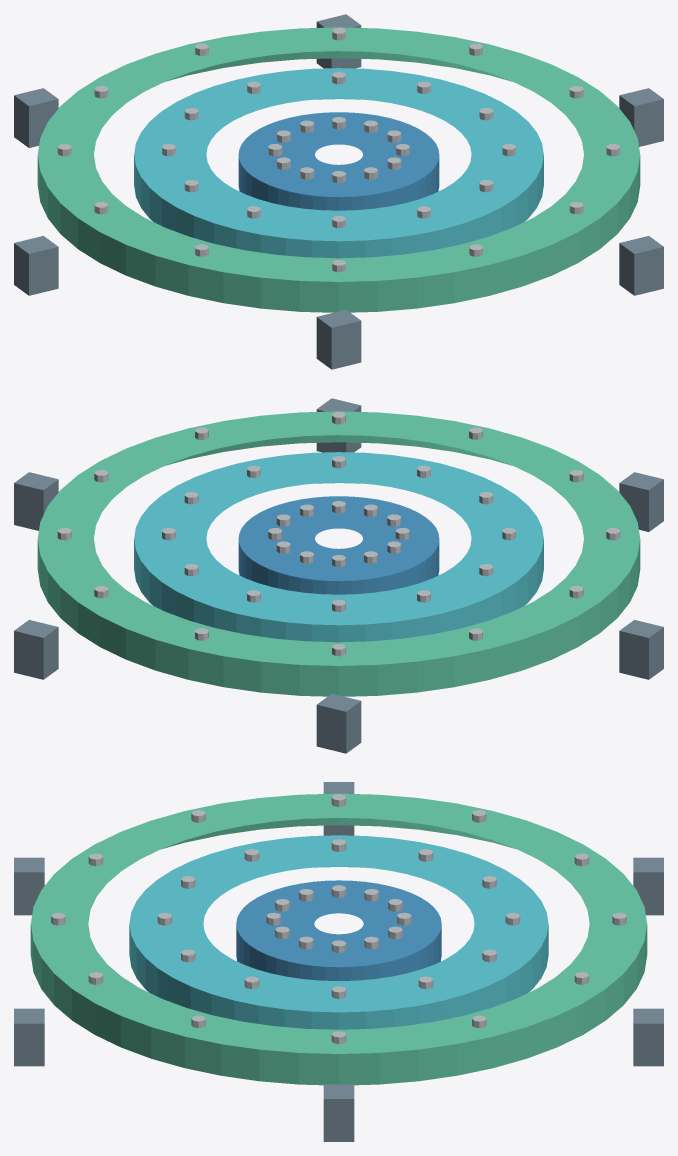
The model's file is 07_L73_MultiZonePressureBladder.glb.
The picture shows the model from 3 angles, top to bottom: view 1: azimuth 30°, elevation 25°; view 2: azimuth 150°, elevation 25°; view 3: azimuth 270°, elevation 25°; orthographic projection. The views are drawn at different scales.
Parts seen in each view (by area): view 1: MultiZonePressureBladder_Node_0026, MultiZonePressureBladder_Node_0013, MultiZonePressureBladder_Node_0000, MultiZonePressureBladder_Node_0041, MultiZonePressureBladder_Node_0040, MultiZonePressureBladder_Node_0042, MultiZonePressureBladder_Node_0043, MultiZonePressureBladder_Node_0039, MultiZonePressureBladder_Node_0044; view 2: MultiZonePressureBladder_Node_0026, MultiZonePressureBladder_Node_0013, MultiZonePressureBladder_Node_0000, MultiZonePressureBladder_Node_0043, MultiZonePressureBladder_Node_0044, MultiZonePressureBladder_Node_0042, MultiZonePressureBladder_Node_0041, MultiZonePressureBladder_Node_0039, MultiZonePressureBladder_Node_0040; view 3: MultiZonePressureBladder_Node_0026, MultiZonePressureBladder_Node_0013, MultiZonePressureBladder_Node_0000, MultiZonePressureBladder_Node_0039, MultiZonePressureBladder_Node_0040, MultiZonePressureBladder_Node_0044, MultiZonePressureBladder_Node_0041, MultiZonePressureBladder_Node_0043, MultiZonePressureBladder_Node_0042.
Boxes of the visible parts, x1,y1,x2,y2 form: MultiZonePressureBladder_Node_0026: [37, 27, 640, 312]; MultiZonePressureBladder_Node_0013: [134, 68, 543, 258]; MultiZonePressureBladder_Node_0000: [238, 112, 439, 210]; MultiZonePressureBladder_Node_0041: [316, 309, 361, 369]; MultiZonePressureBladder_Node_0040: [619, 236, 663, 295]; MultiZonePressureBladder_Node_0042: [14, 236, 58, 295]; MultiZonePressureBladder_Node_0043: [14, 88, 58, 147]; MultiZonePressureBladder_Node_0039: [619, 88, 663, 146]; MultiZonePressureBladder_Node_0044: [316, 14, 361, 68]; MultiZonePressureBladder_Node_0026: [37, 411, 640, 696]; MultiZonePressureBladder_Node_0013: [134, 452, 543, 642]; MultiZonePressureBladder_Node_0000: [238, 496, 439, 594]; MultiZonePressureBladder_Node_0043: [316, 693, 361, 753]; MultiZonePressureBladder_Node_0044: [14, 620, 58, 679]; MultiZonePressureBladder_Node_0042: [619, 620, 663, 679]; MultiZonePressureBladder_Node_0041: [619, 472, 663, 531]; MultiZonePressureBladder_Node_0039: [14, 472, 58, 530]; MultiZonePressureBladder_Node_0040: [316, 398, 361, 452]; MultiZonePressureBladder_Node_0026: [30, 793, 647, 1085]; MultiZonePressureBladder_Node_0013: [129, 835, 548, 1029]; MultiZonePressureBladder_Node_0000: [236, 880, 441, 980]; MultiZonePressureBladder_Node_0039: [323, 1084, 354, 1141]; MultiZonePressureBladder_Node_0040: [14, 1008, 44, 1066]; MultiZonePressureBladder_Node_0044: [633, 1008, 663, 1066]; MultiZonePressureBladder_Node_0041: [14, 857, 44, 915]; MultiZonePressureBladder_Node_0043: [633, 857, 663, 915]; MultiZonePressureBladder_Node_0042: [323, 782, 354, 835].
Size of the model in its own units: 1.83 by 0.1815 by 1.58.
